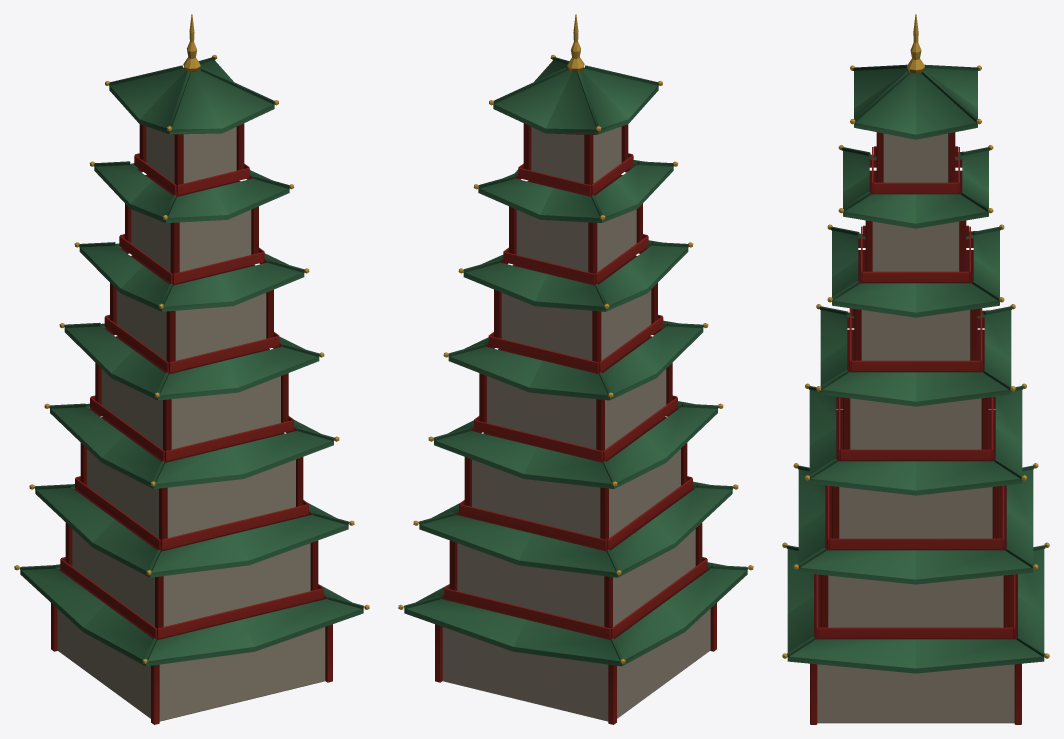
File: tp_pagoda-BttNDgOV.glb
3 views of the same model, side by side, from view 1: azimuth 30°, elevation 25°; view 2: azimuth 150°, elevation 25°; view 3: azimuth 270°, elevation 25° (orthographic). The views are drawn at different scales.
Bounding box in the file's own units: 12.08 × 33.2 × 12.07.
